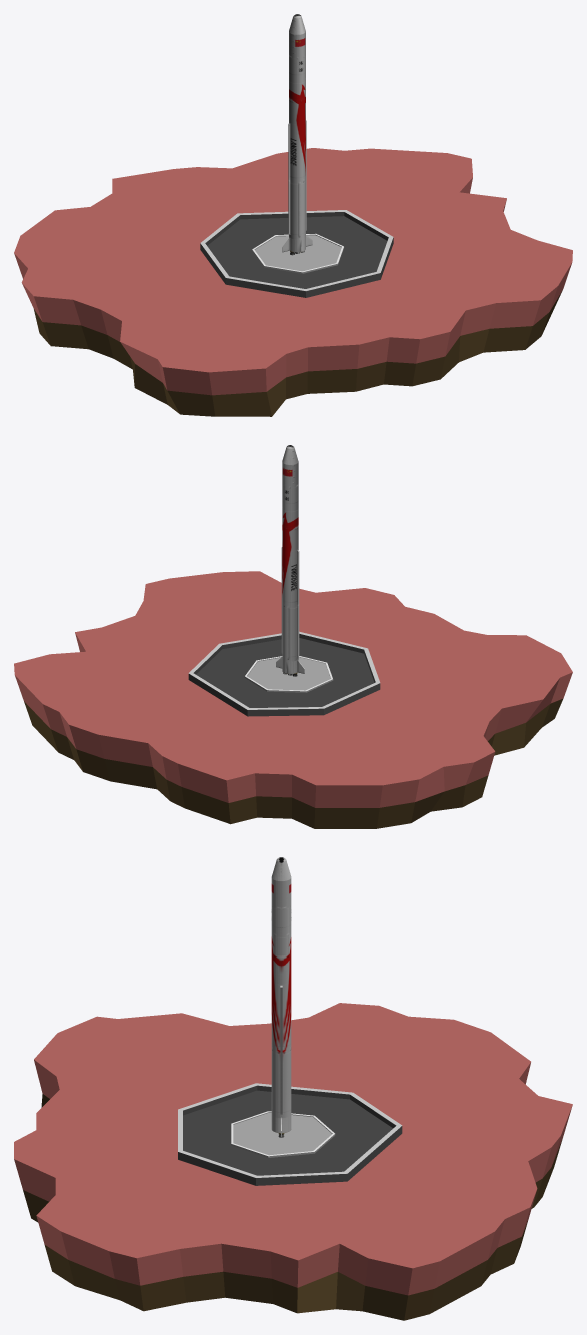
The model's file is Zhuque-2.gltf.
3 renders of one model, top to bottom at view 1: azimuth 30°, elevation 25°; view 2: azimuth 150°, elevation 25°; view 3: azimuth 270°, elevation 25°, orthographic. The views are drawn at different scales.
Parts seen in each view (by area): view 1: Plane, Cylinder.002; view 2: Plane, Cylinder.002; view 3: Plane, Cylinder.002.
Boxes of the visible parts, bbox=[...] form: Plane: bbox=[14, 148, 572, 416]; Cylinder.002: bbox=[282, 14, 312, 255]; Plane: bbox=[14, 571, 572, 828]; Cylinder.002: bbox=[276, 445, 304, 676]; Plane: bbox=[14, 1003, 572, 1320]; Cylinder.002: bbox=[271, 857, 291, 1137].
Bounding box in the file's own units: 8.06 × 4.83 × 7.18.
8 materials, 1 textured.
